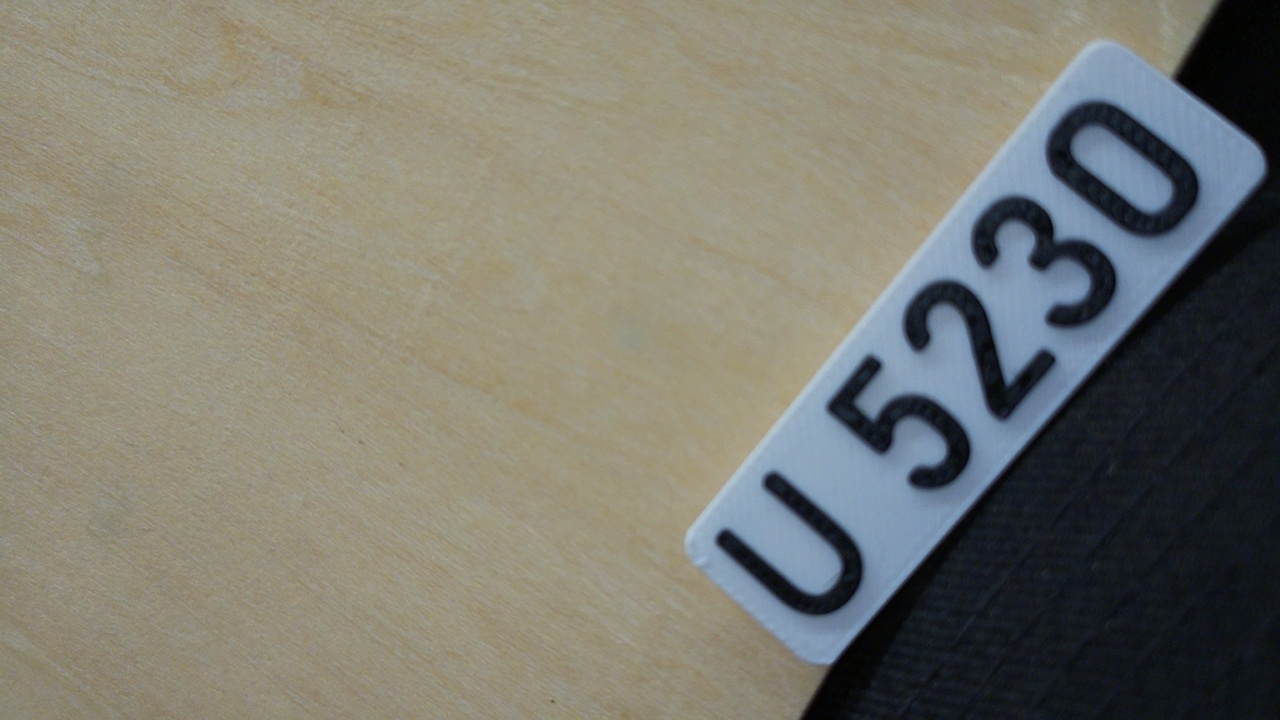license_plate: (679, 34, 1274, 668)
